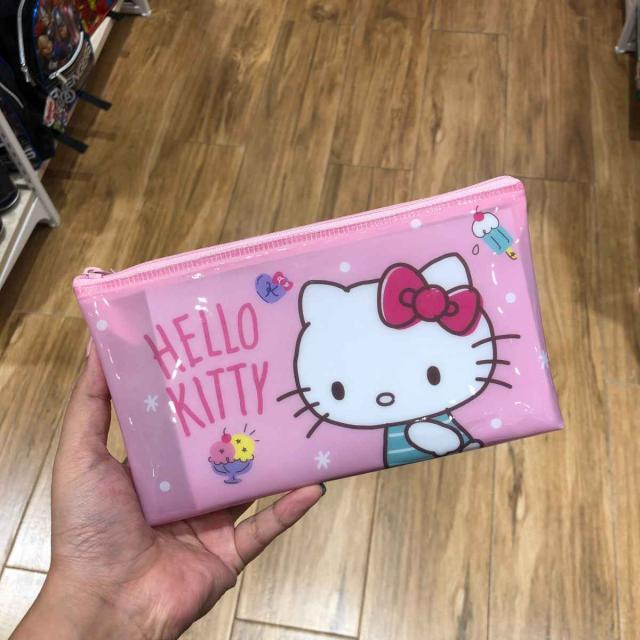handbag: (70, 178, 565, 520)
